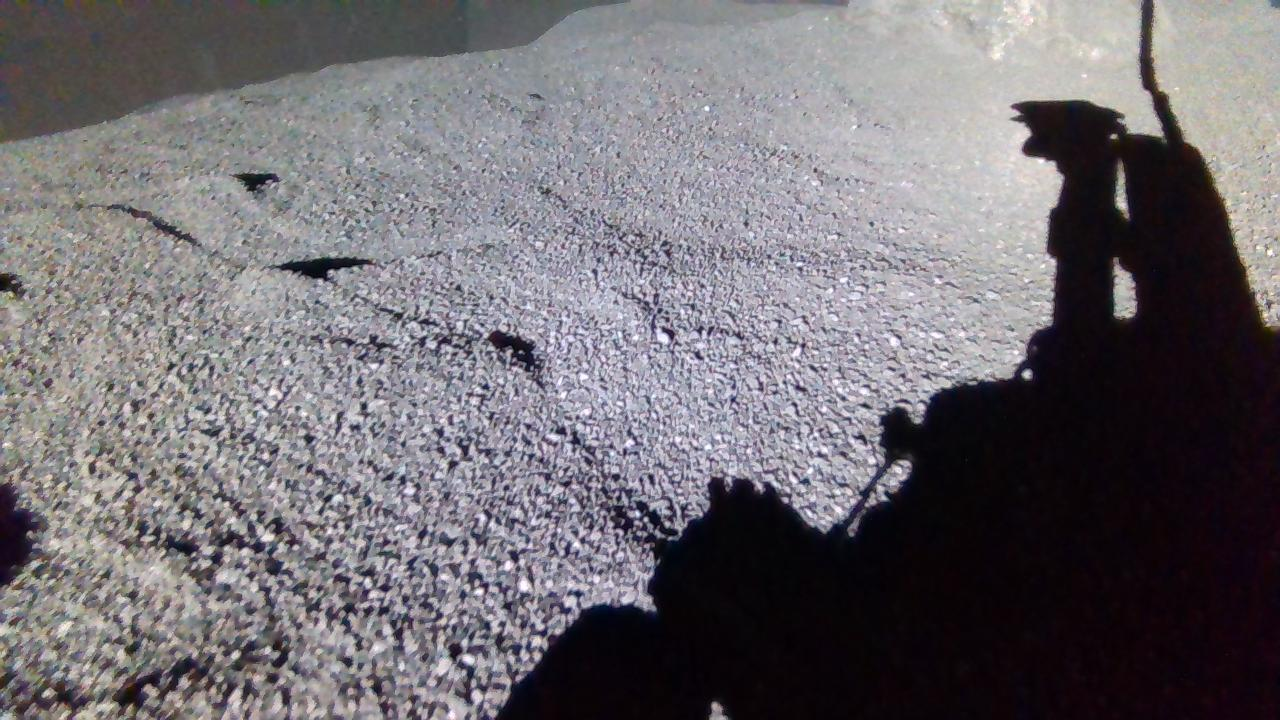rock: (848, 0, 1175, 66)
